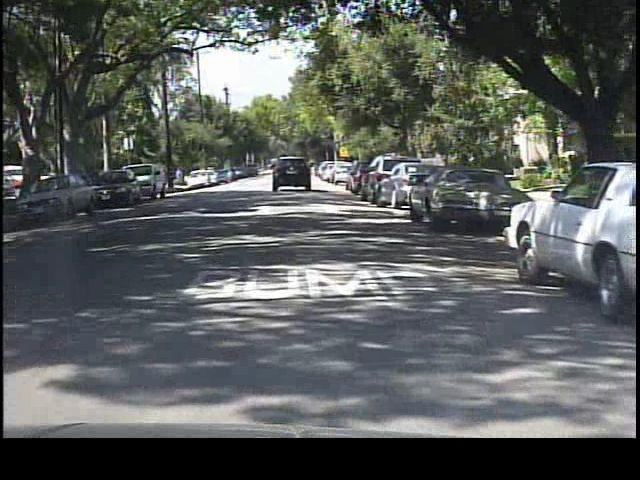person: (175, 165, 189, 193)
